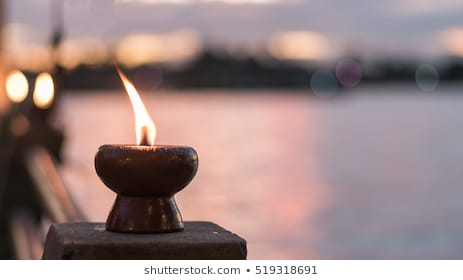Fire: (116, 64, 159, 148)
